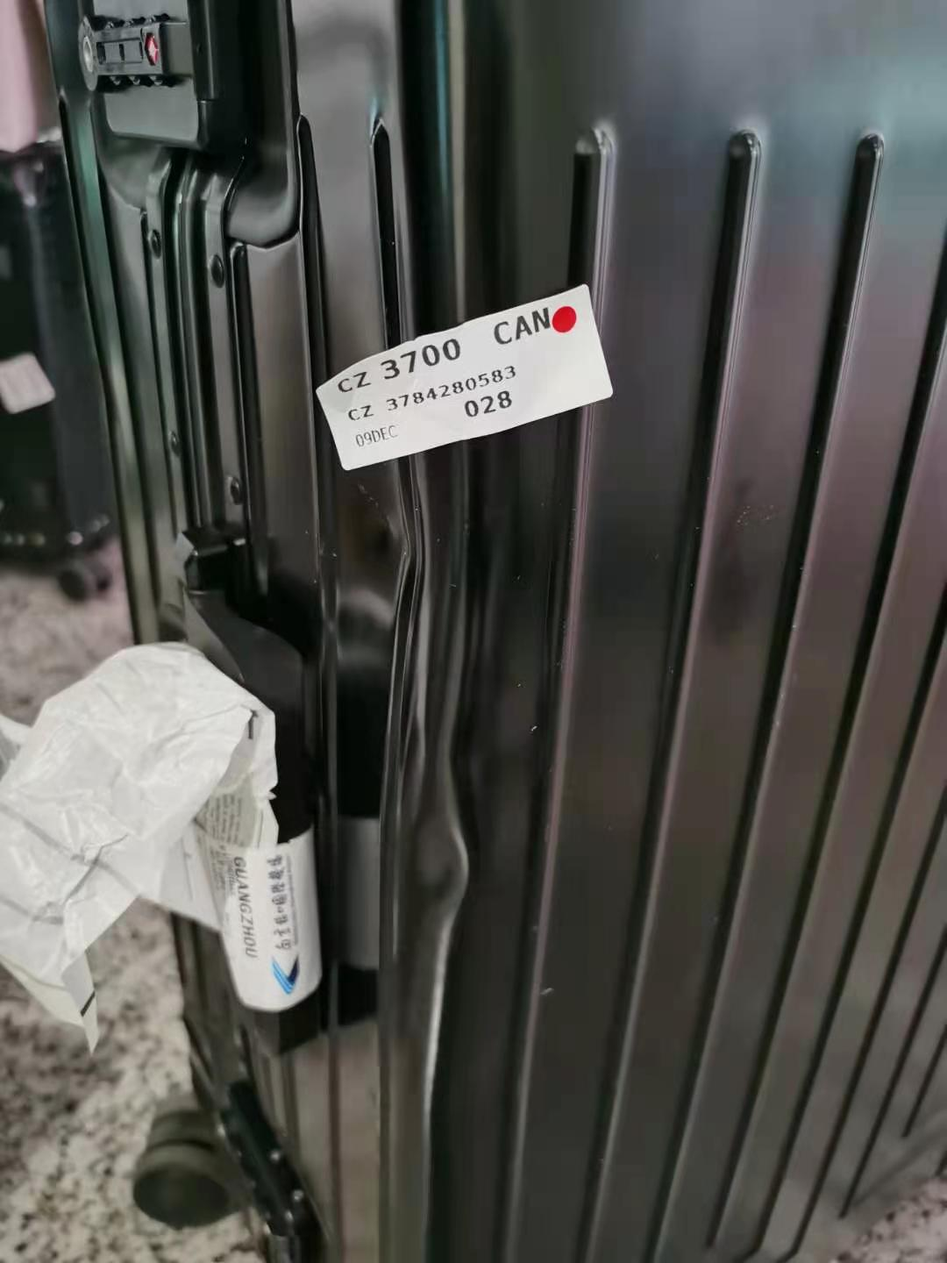rupture: (326, 459, 513, 1131)
